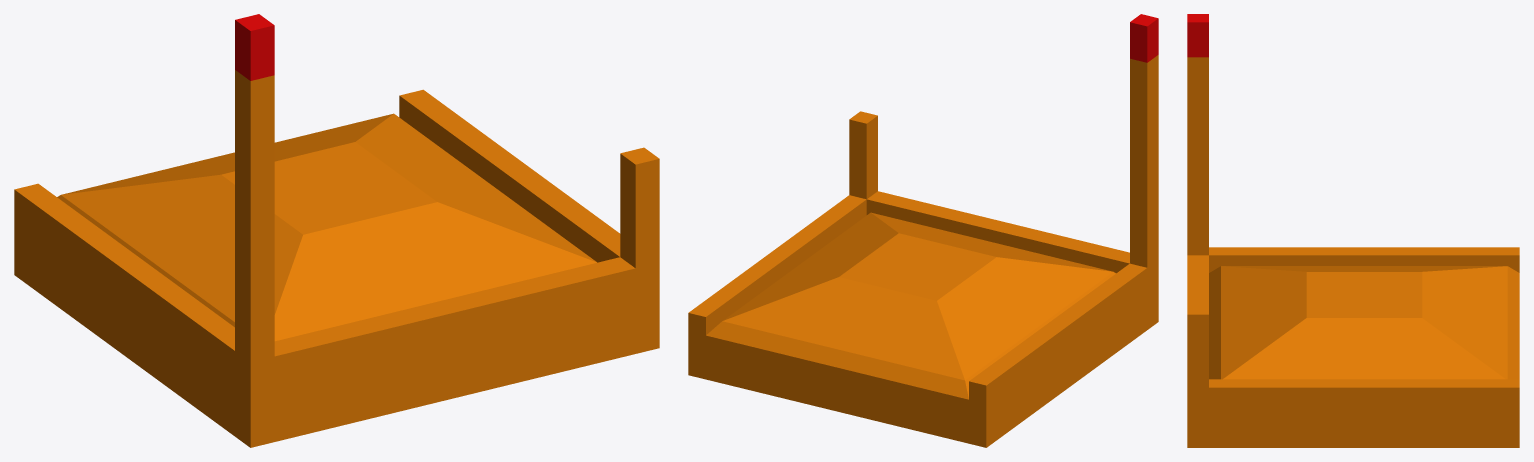
The model's file is Player.fbx.
3 views of the same model, side by side, from view 1: azimuth 30°, elevation 25°; view 2: azimuth 150°, elevation 25°; view 3: azimuth 270°, elevation 25° (orthographic). The views are drawn at different scales.
Parts seen in each view (by area): view 1: Cube; view 2: Cube; view 3: Cube.
Part boxes in pixels (bbox=[...]): Cube: bbox=[14, 14, 659, 447]; Cube: bbox=[688, 14, 1158, 447]; Cube: bbox=[1187, 14, 1519, 447].
Bounding box in the file's own units: 200 × 195 × 200.
